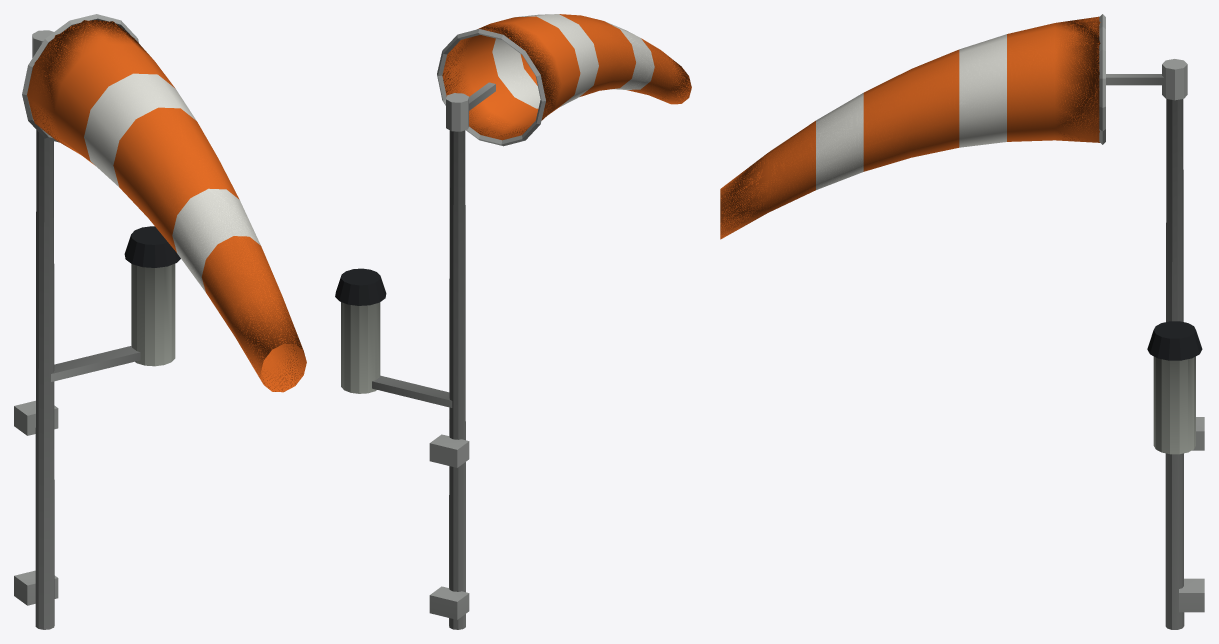
File: boat_launch_weather_post.glb
3 renders of one model, left to right at view 1: azimuth 30°, elevation 25°; view 2: azimuth 150°, elevation 25°; view 3: azimuth 270°, elevation 25°, orthographic. The views are drawn at different scales.
Parts seen in each view (by area): view 1: boat_launch_windsock_LOD0, boat_launch_weather_post_LOD0; view 2: boat_launch_windsock_LOD0, boat_launch_weather_post_LOD0; view 3: boat_launch_windsock_LOD0, boat_launch_weather_post_LOD0.
Boxes of the visible parts, bbox=[...] form: boat_launch_windsock_LOD0: bbox=[22, 14, 306, 392]; boat_launch_weather_post_LOD0: bbox=[14, 130, 180, 629]; boat_launch_windsock_LOD0: bbox=[437, 14, 691, 146]; boat_launch_weather_post_LOD0: bbox=[335, 130, 469, 629]; boat_launch_windsock_LOD0: bbox=[720, 14, 1187, 239]; boat_launch_weather_post_LOD0: bbox=[1147, 99, 1204, 629].
Size of what is drawn, in the model's own units: 0.5014 by 1.57 by 1.14.
